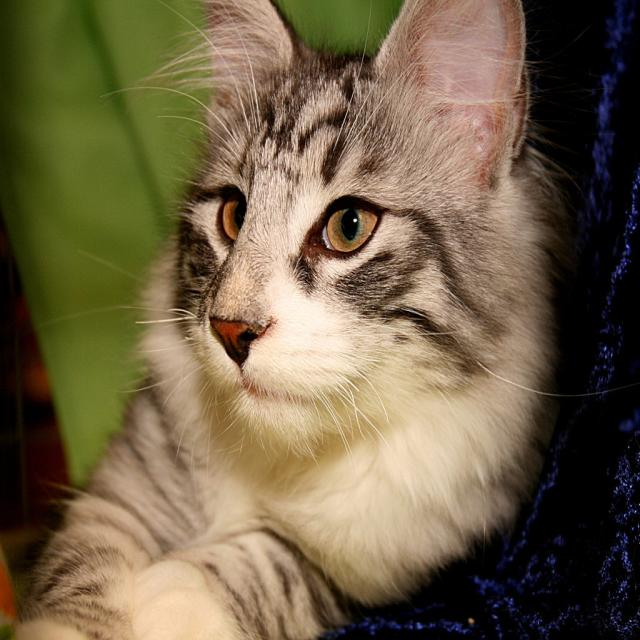Cat: (0, 0, 612, 639)
